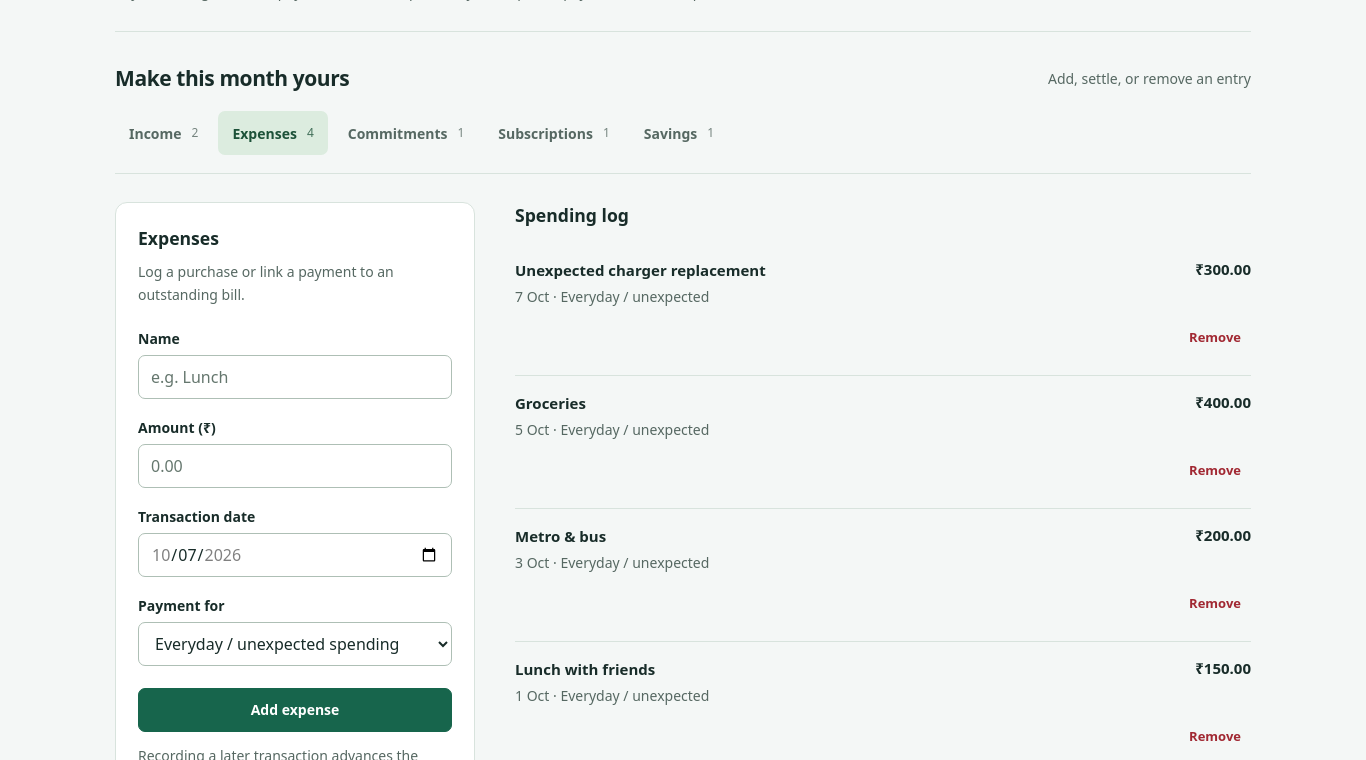
Test: persistent React workspace › lets all controls work when browser storage access is denied
The width and height of the screenshot is (1366, 760).
(page scrolled)
Type "Unsaved lunch" into the field labelled "Name" at (295, 377), box [138,355,452,399]
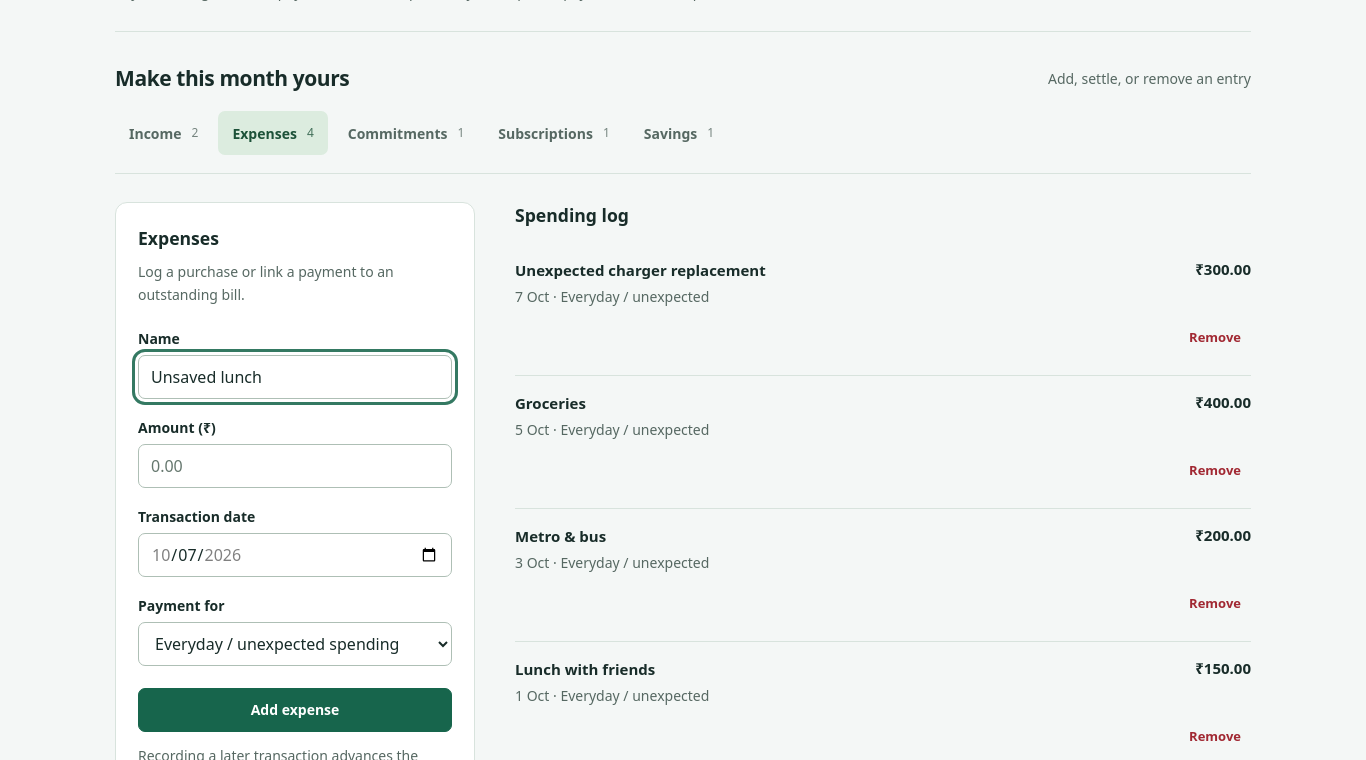
Type "100" into the field labelled "Amount (₹)" at (295, 466), box [138,444,452,488]
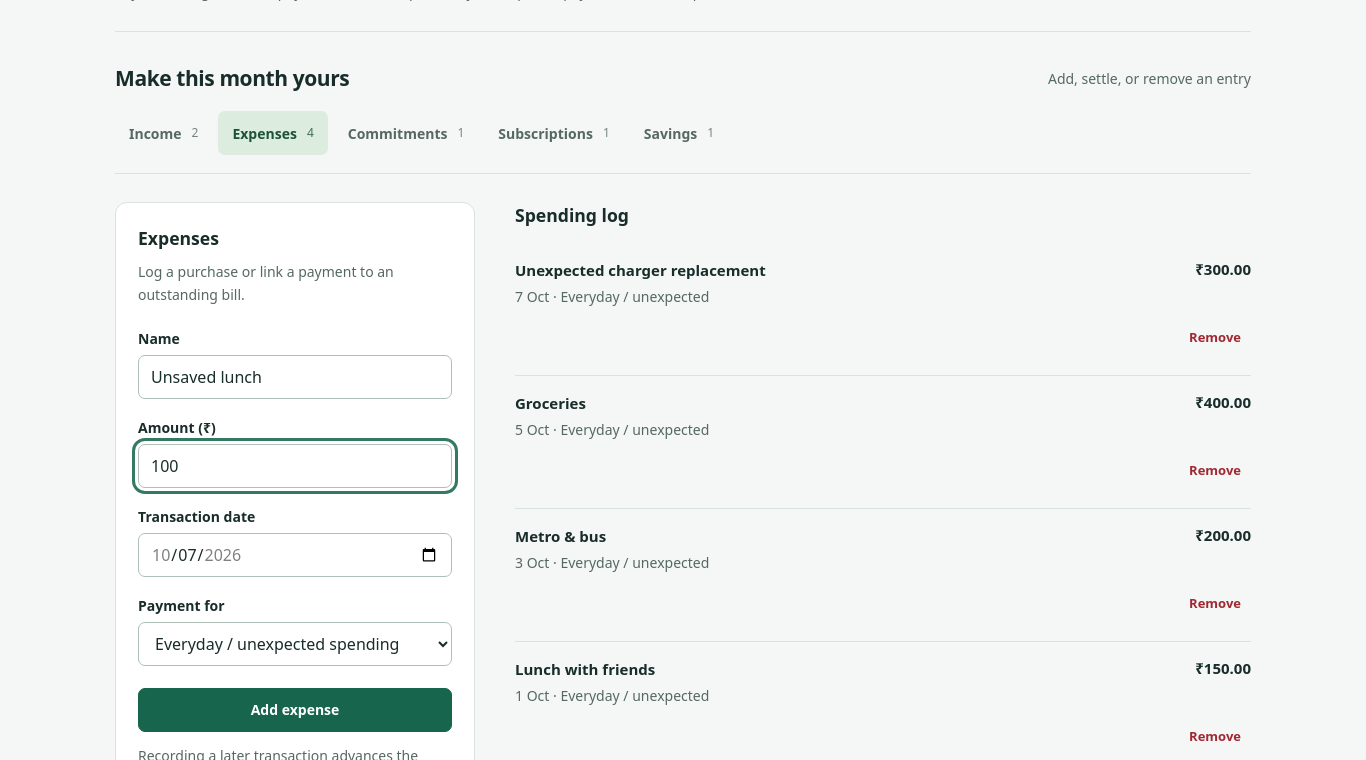
Click the button "Add expense" at (295, 710), box [138,688,452,732]
(page scrolled)
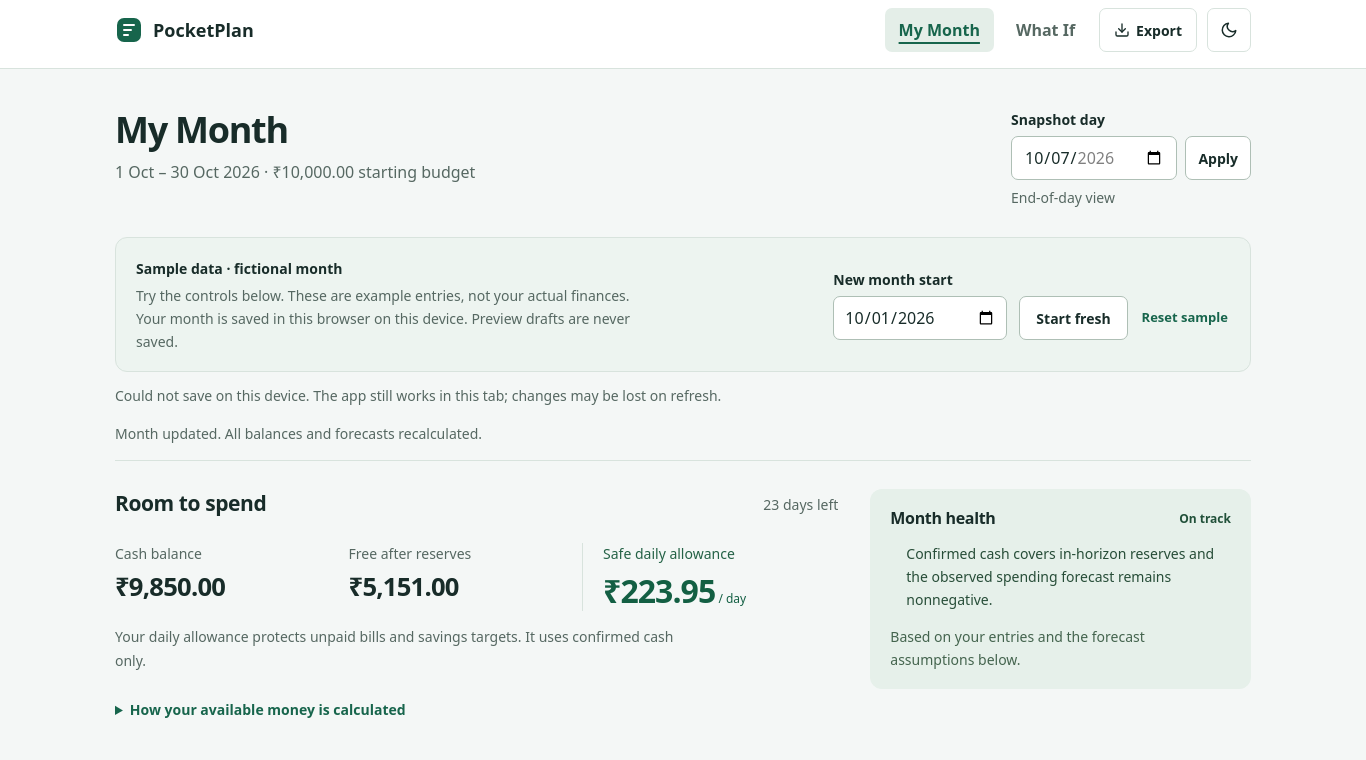
Result: the text with test id "cash-balance" reads "₹9,850.00" at [115,569,225,604]
Click the button "Start fresh" at (1074, 318), box [1019,296,1128,340]
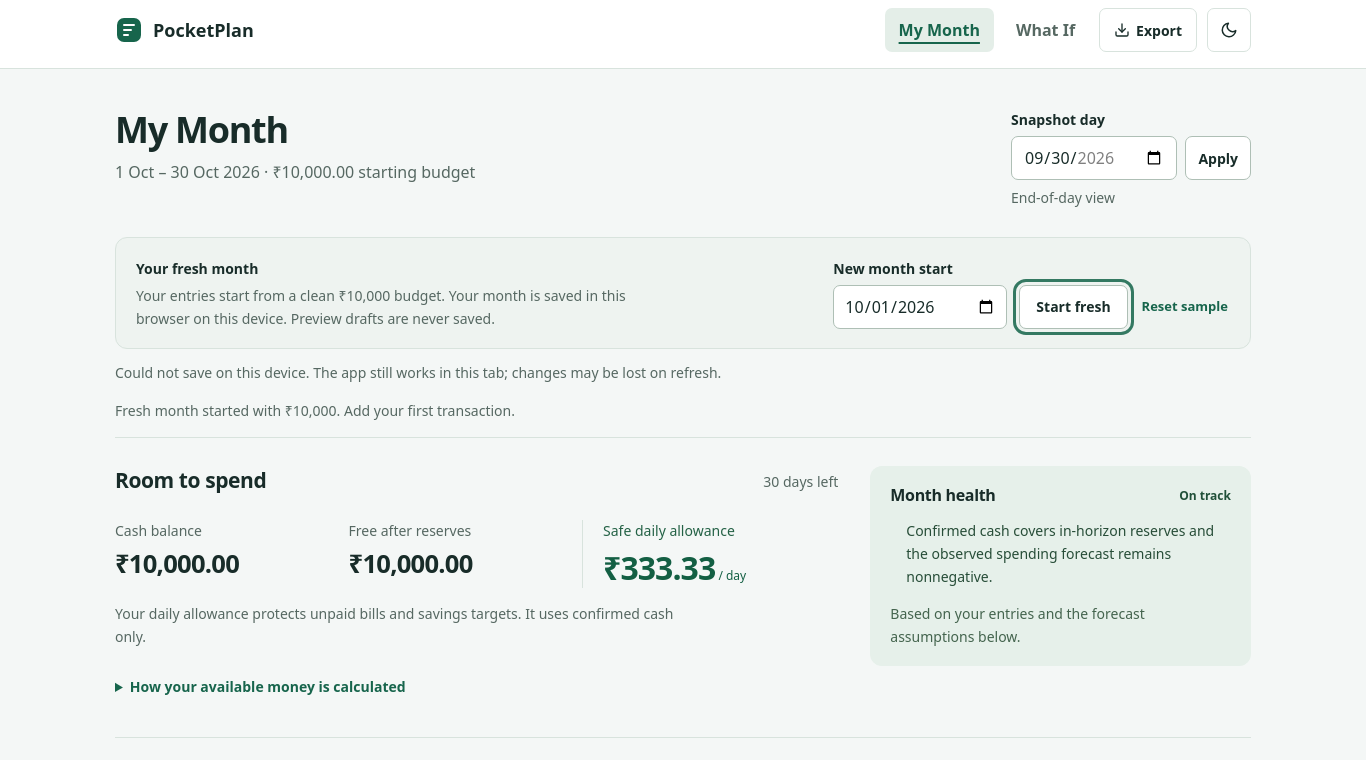
Expected: the message with test id "save-status" shows "Could not save", [115,363,721,382]
Result: the text with test id "cash-balance" reads "₹10,000.00" at [115,546,239,581]
